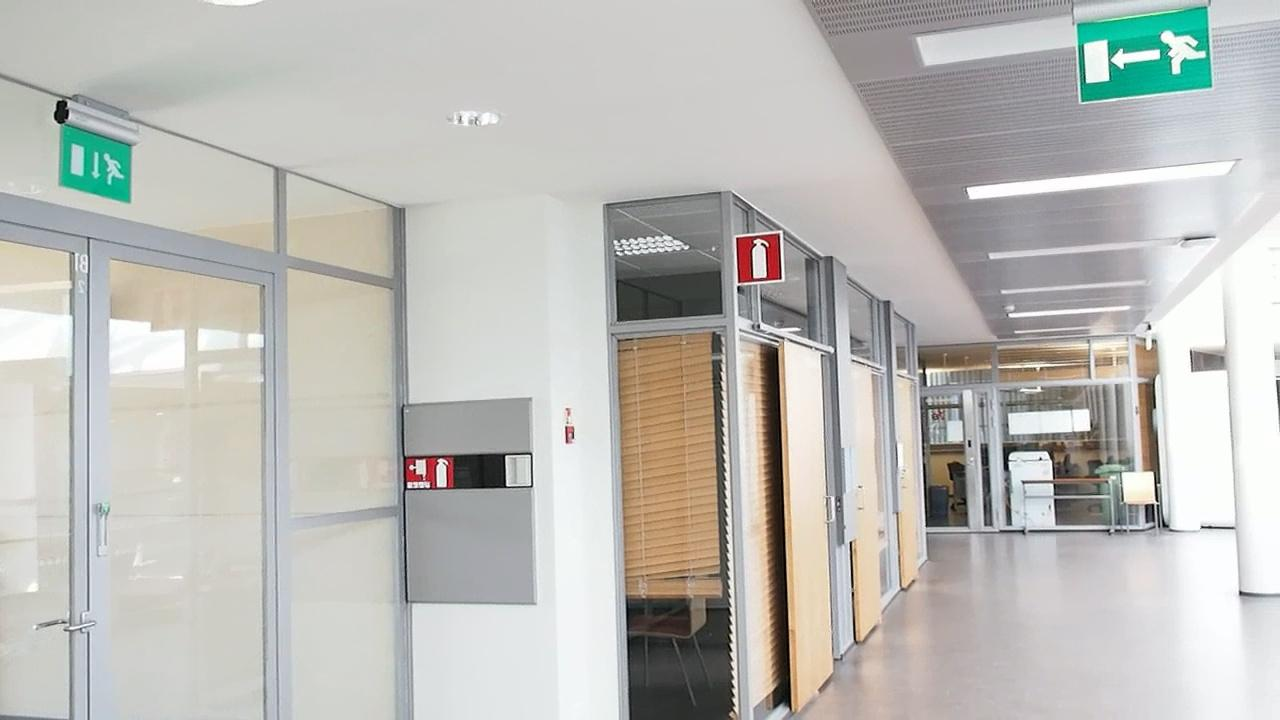exit: (1079, 11, 1224, 100), (52, 133, 129, 193)
